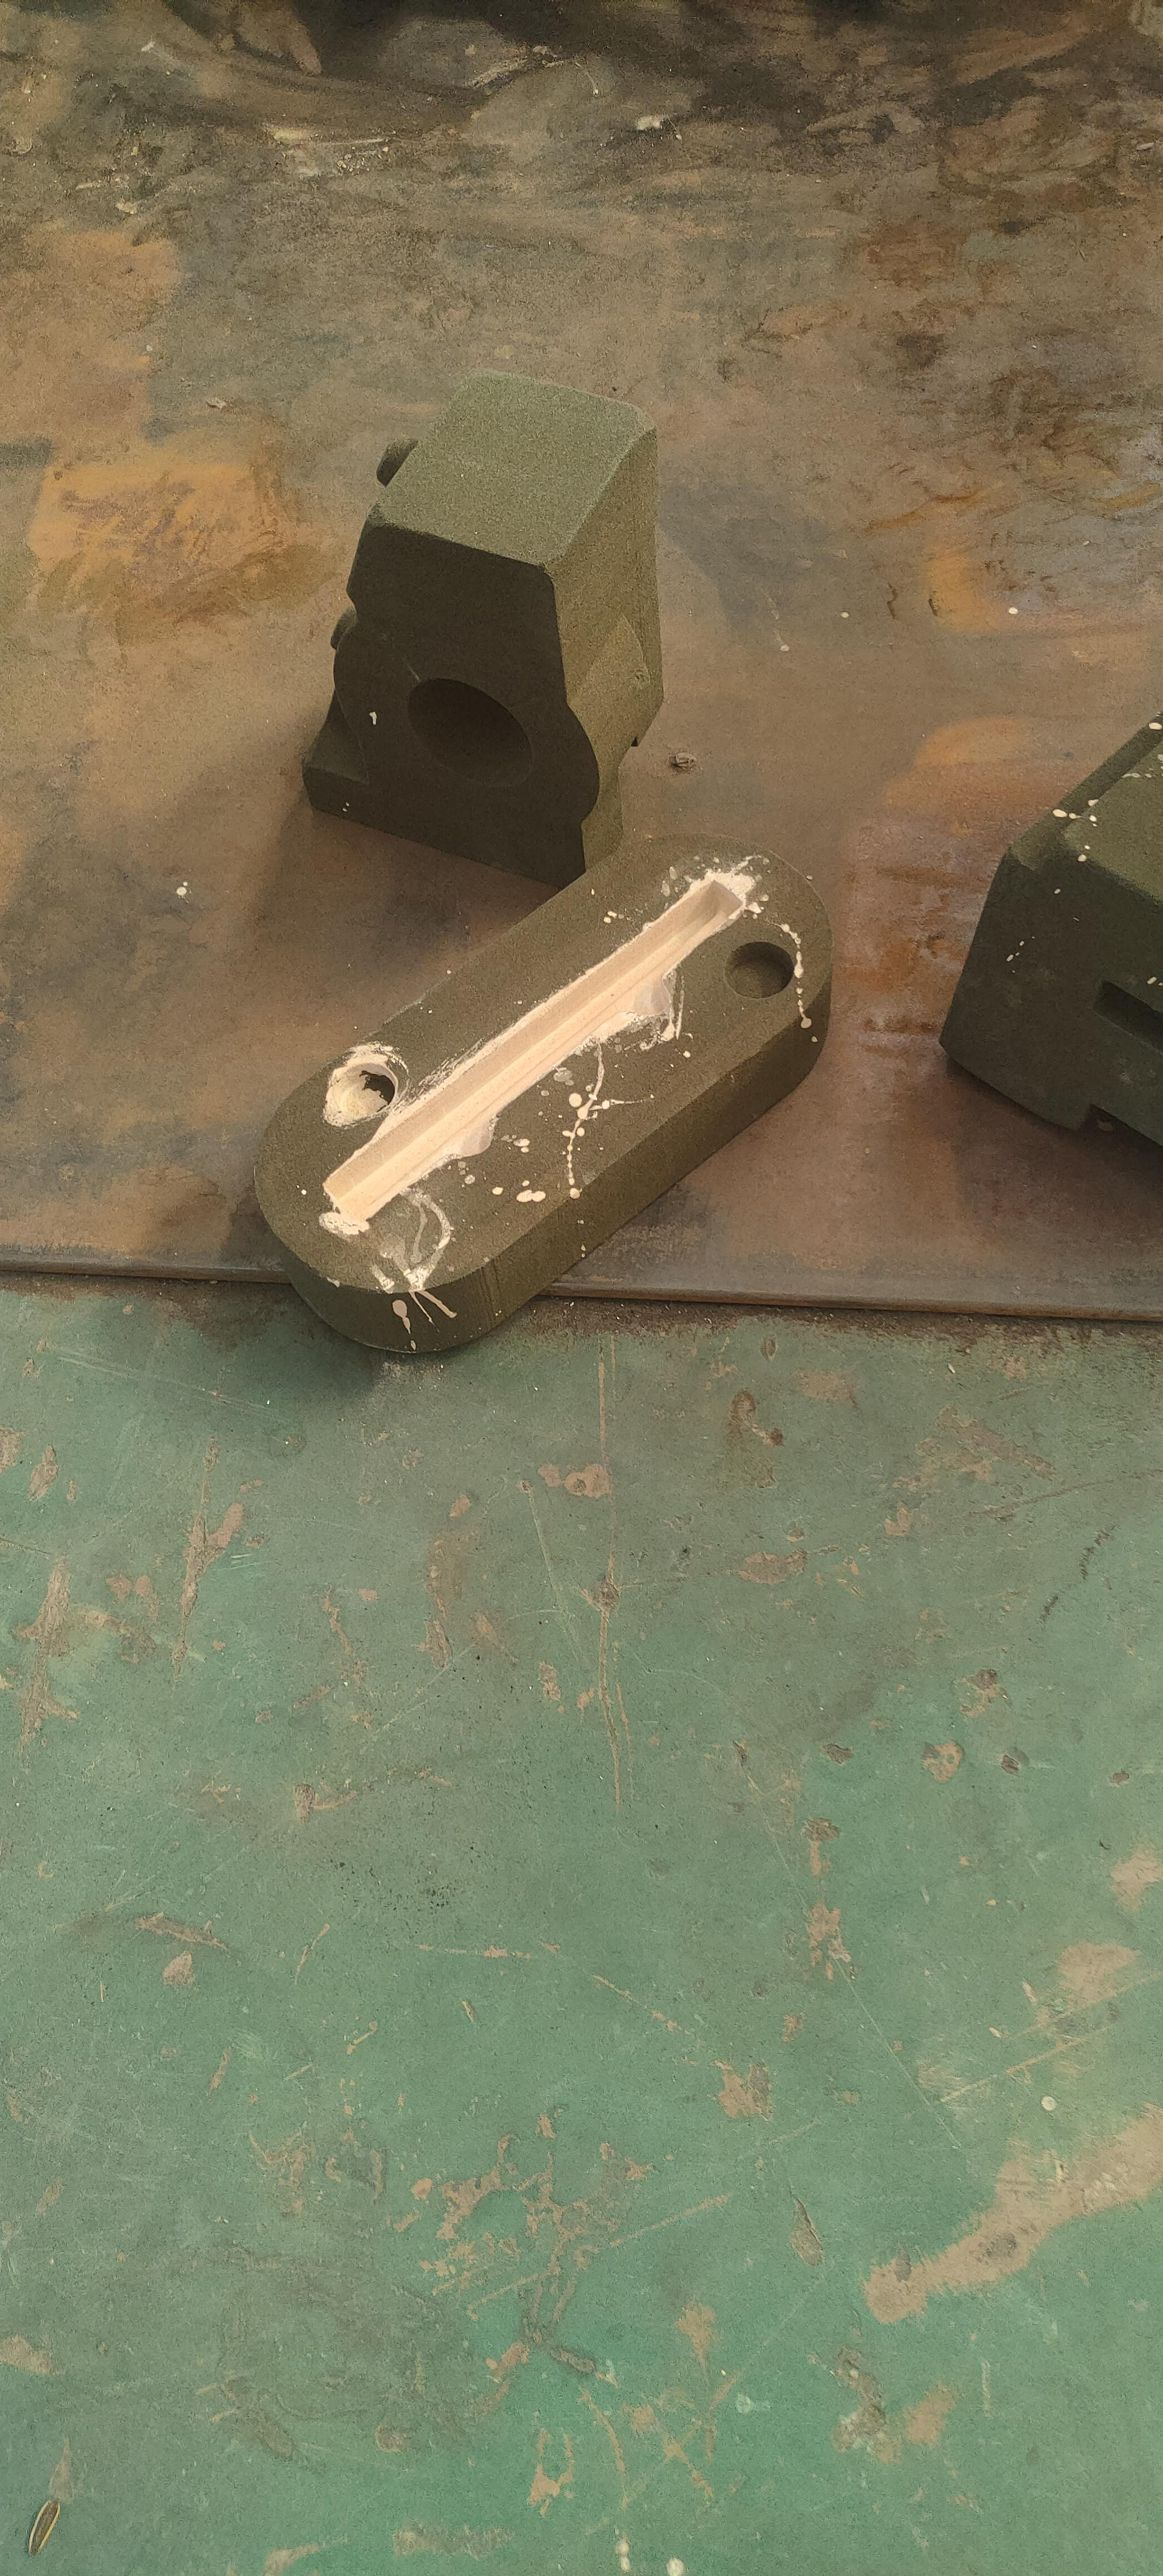pouring hole: (407, 678, 532, 789)
